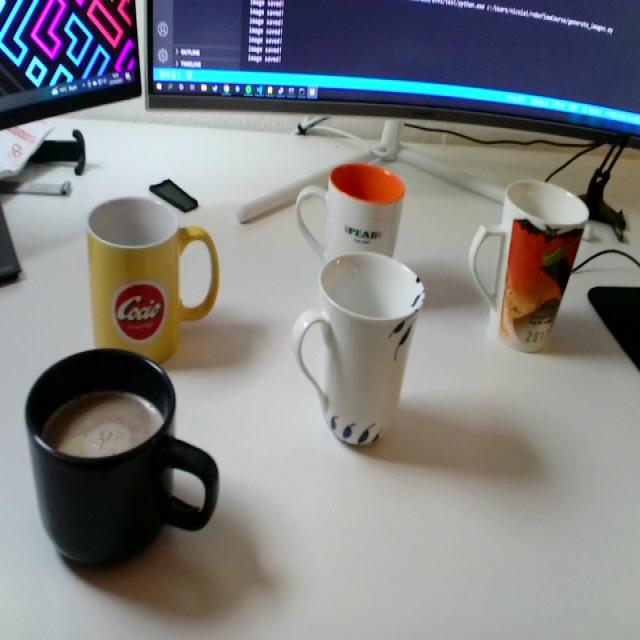Cocio Cup: (84, 195, 220, 366)
Cup: (26, 346, 223, 570)
Halloween cup: (469, 178, 588, 352)
Hand painted cup: (292, 254, 424, 450)
White Cup: (294, 163, 406, 269)
